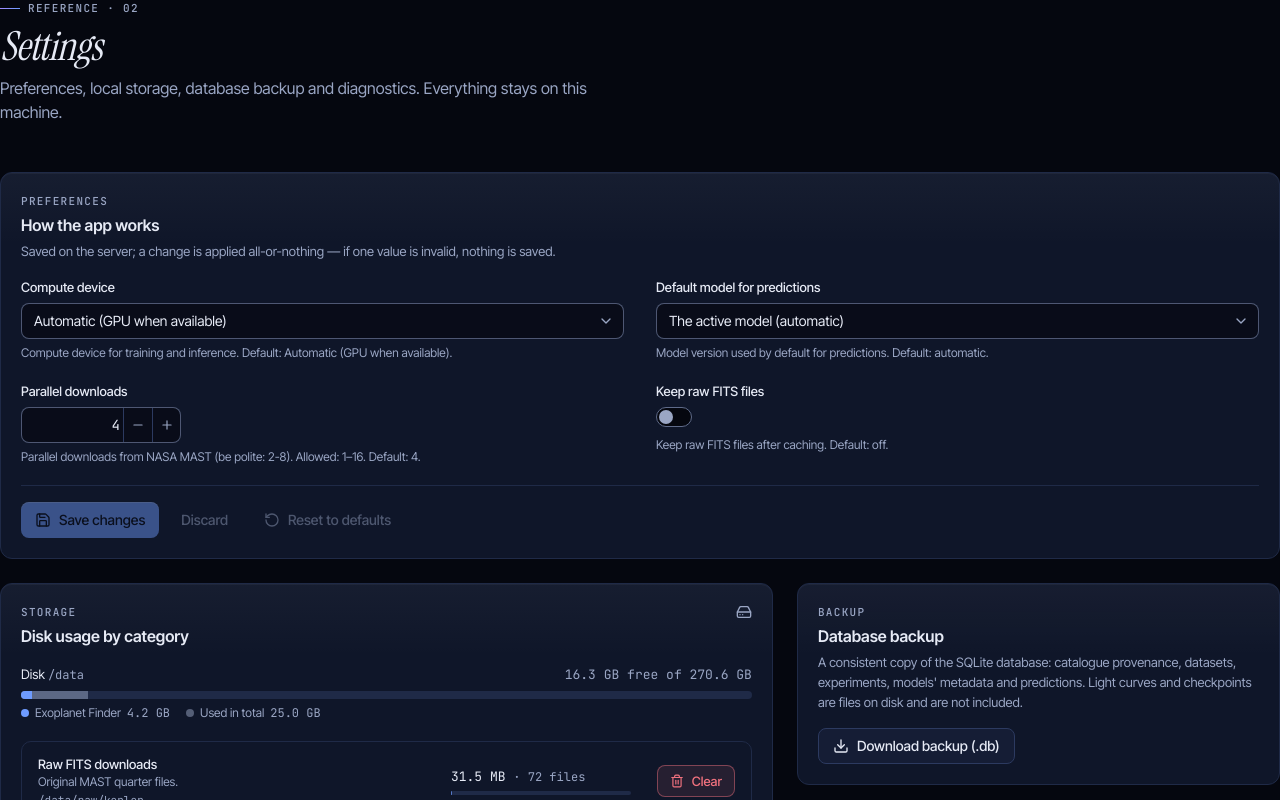
Scenario: Settings › explains a clear refused while a job runs (409 job_running)
This screenshot has width=1280, height=800.
What coordinates should you click on to do the following:
click the button with aria-label "Clear Raw FITS downloads"
I would click on:
 (696, 781)
Its box is [657, 765, 735, 797].
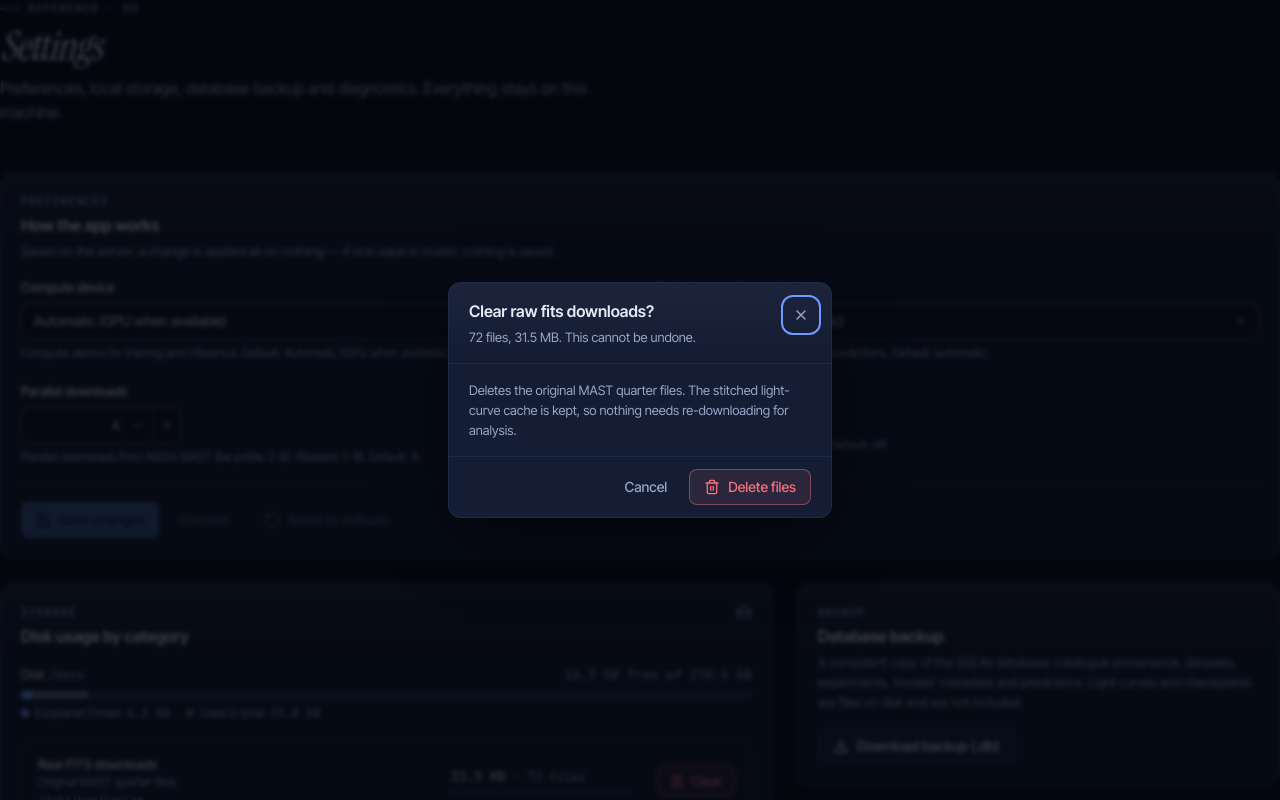
What coordinates should you click on to do the following:
click the button "Delete files"
I would click on:
 (750, 487)
Its box is [689, 469, 811, 505].
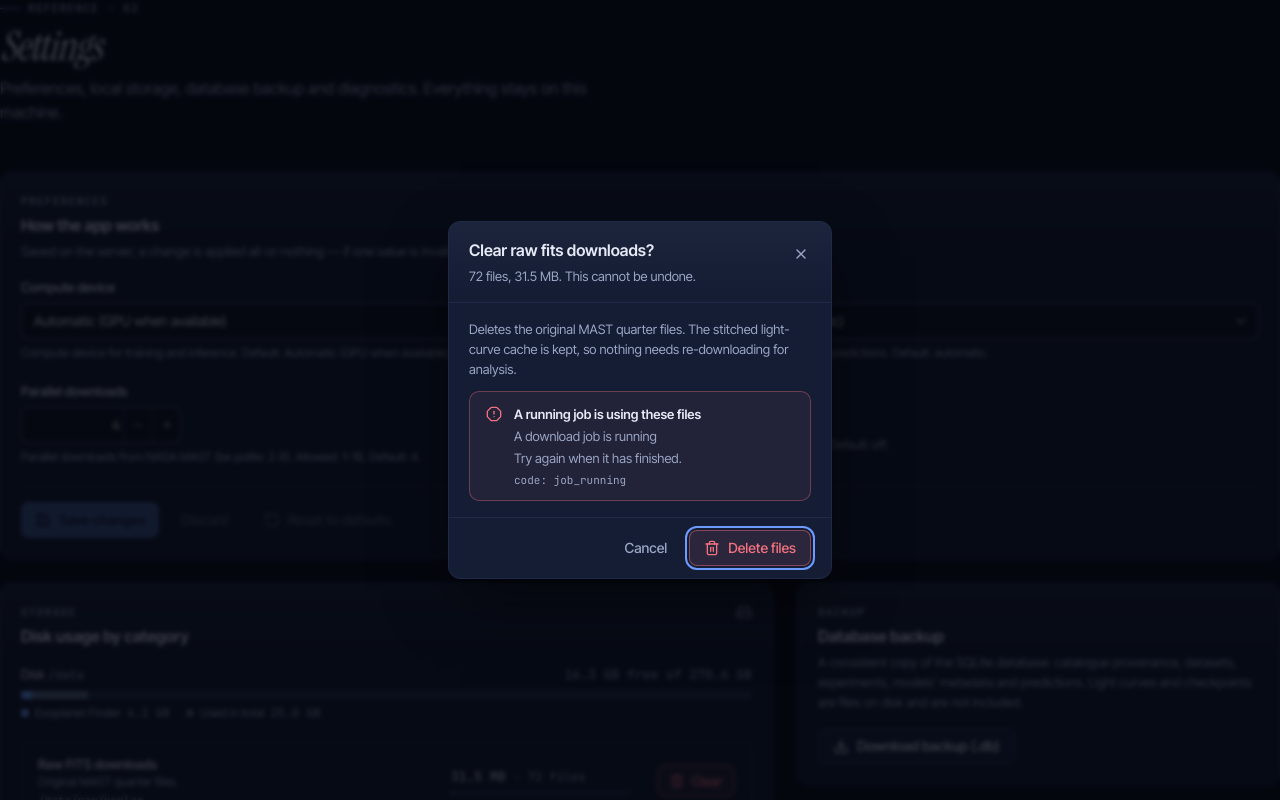
Now the text "A running job is using these files" is shown, box [514, 406, 701, 422]
Now the text "Try again when it has finished." is shown, box [514, 450, 682, 466]
